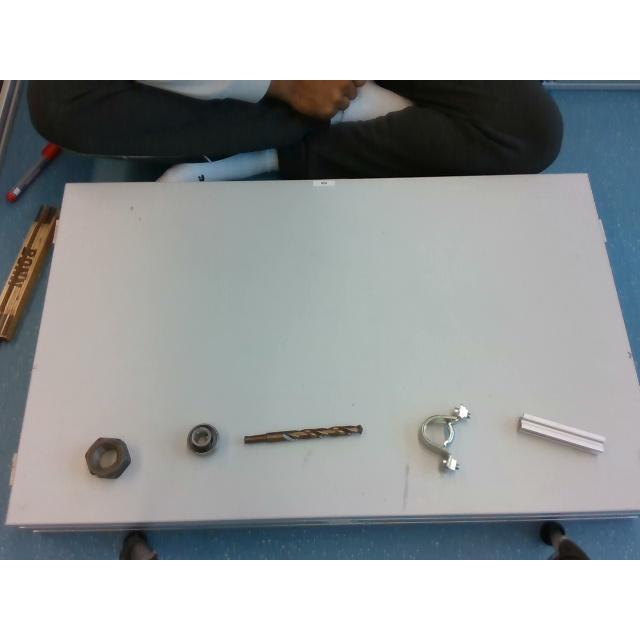Bearing2: (186, 424, 218, 454)
Drill: (244, 424, 362, 444)
F20_20_G: (518, 413, 606, 453)
Housing: (418, 405, 470, 471)
M30: (86, 438, 130, 478)
